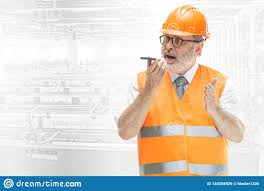Person_wearing_helmet: (152, 4, 212, 46)
